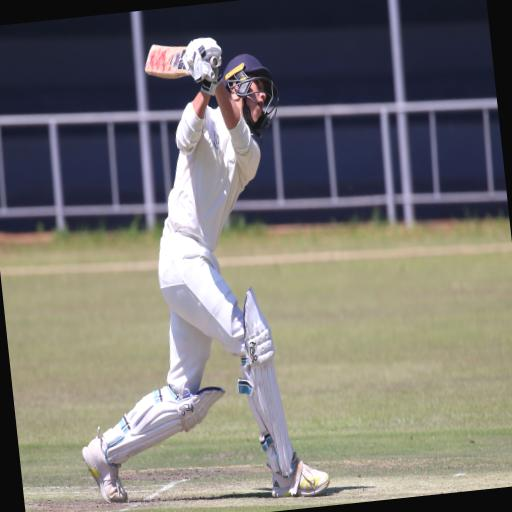shoe: (82, 426, 126, 503), (271, 458, 328, 497)
